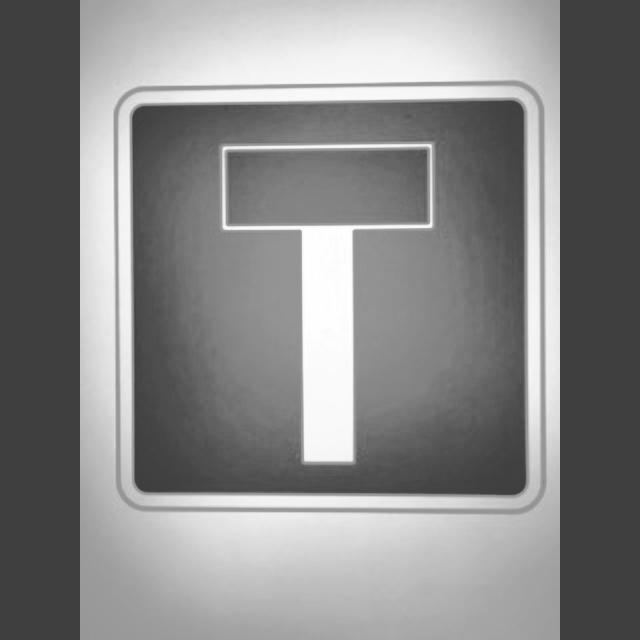DEAD END: (111, 86, 546, 510)
